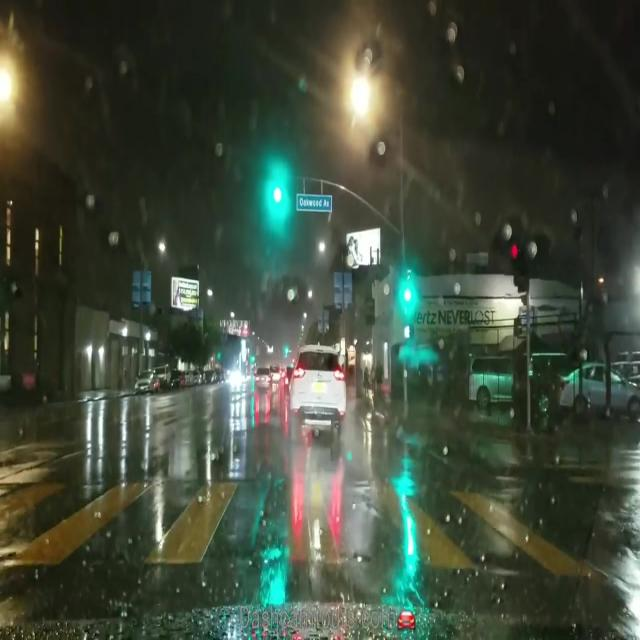Car: (287, 342, 346, 438), (566, 363, 637, 423), (134, 366, 158, 392)
